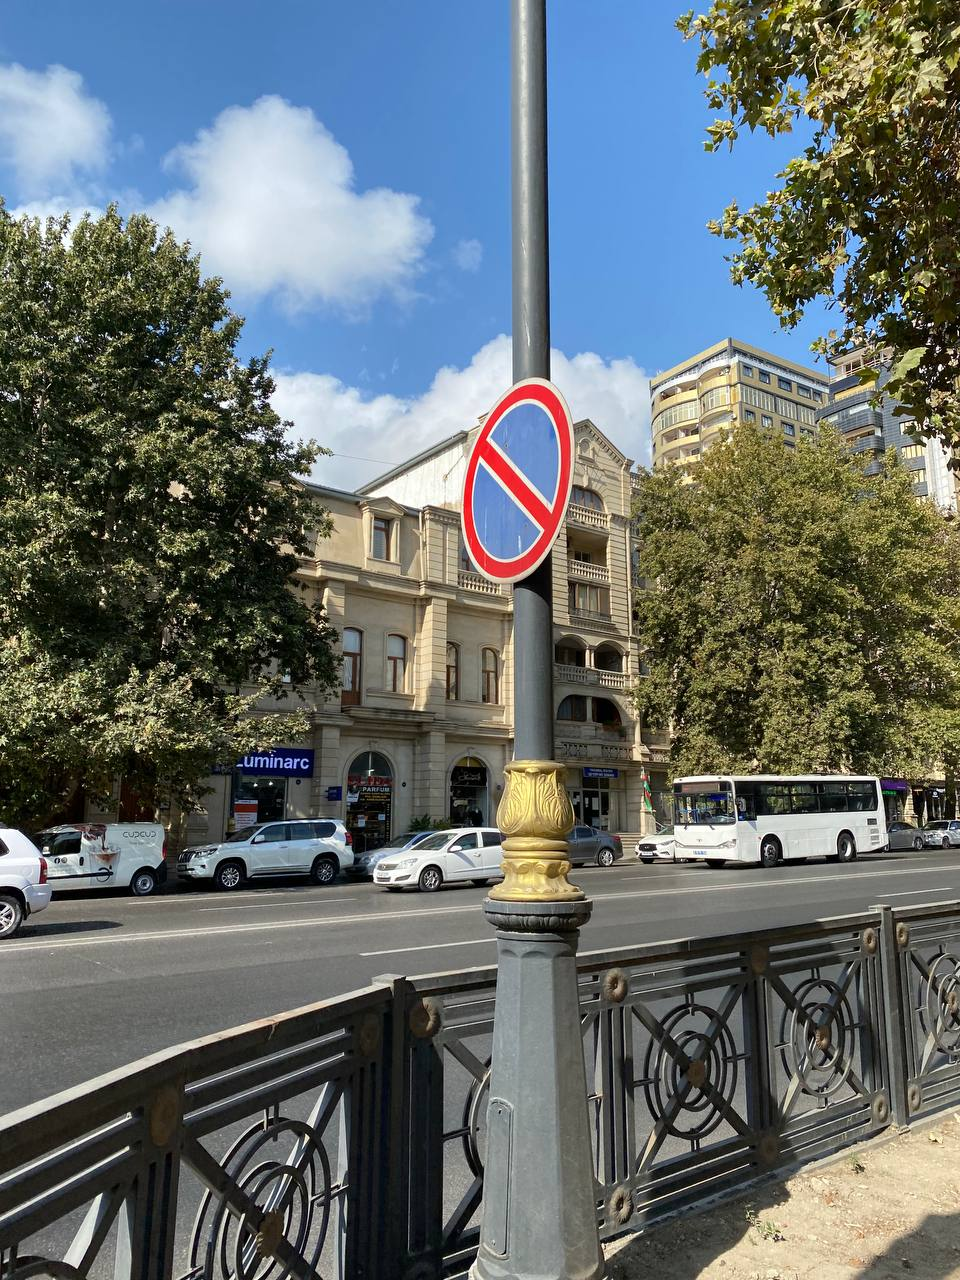No Waiting: (461, 377, 574, 584)
